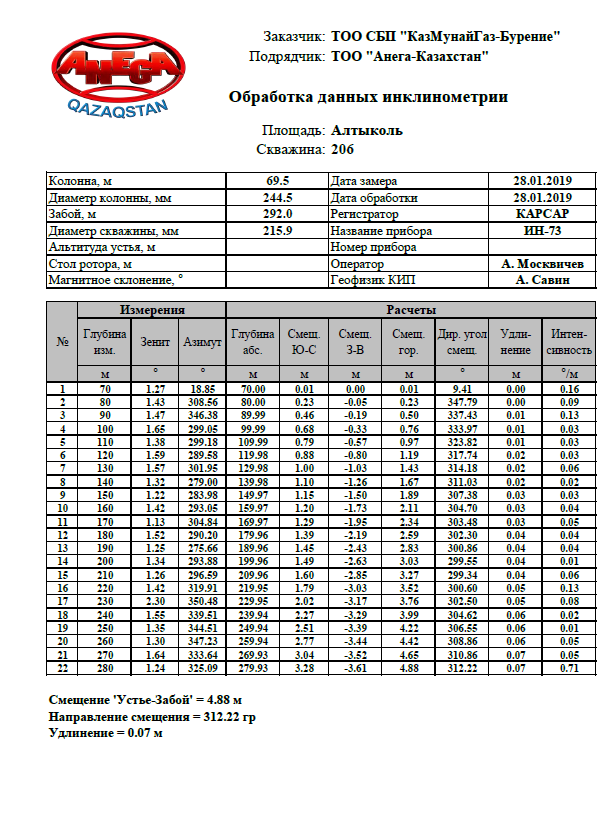Bordered: (43, 300, 596, 676), (45, 170, 598, 290)
